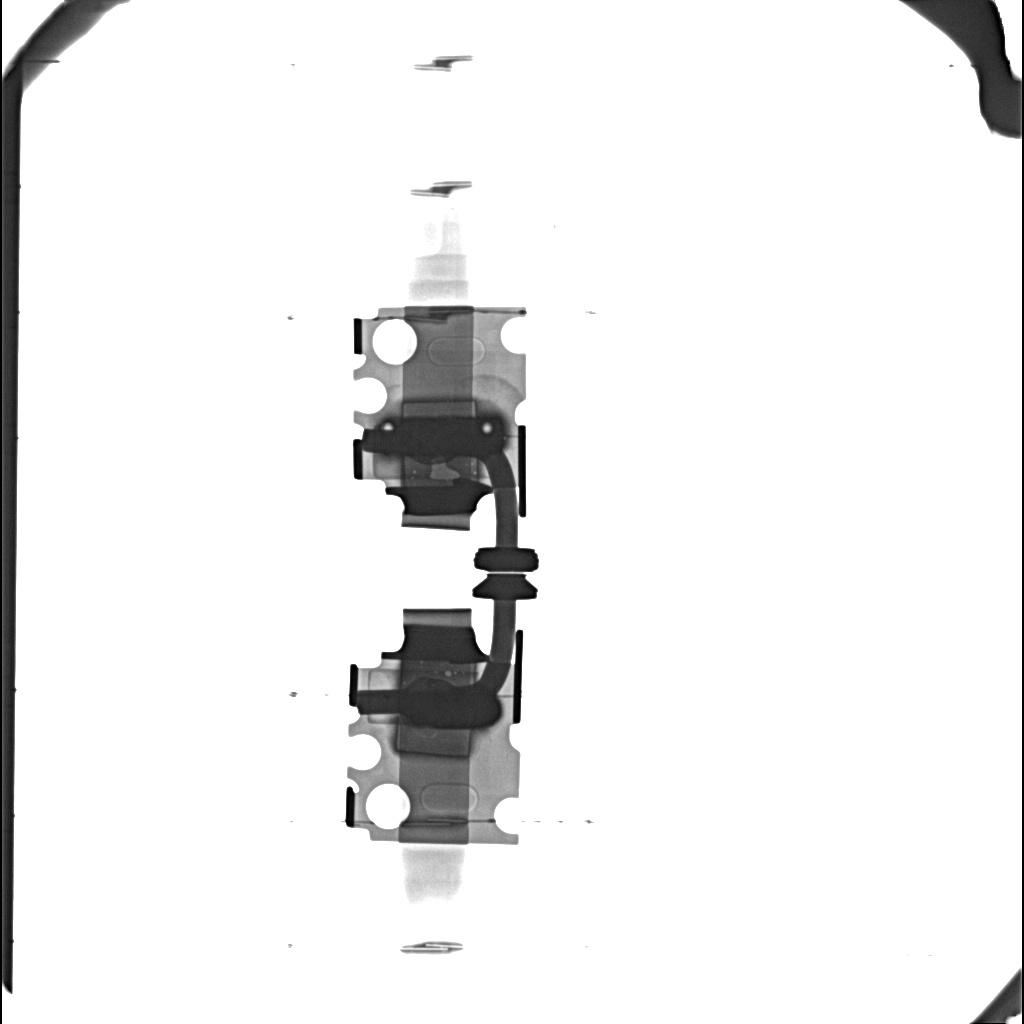PX: (395, 723, 471, 758), (400, 399, 479, 415)
QP: (429, 463, 460, 480), (444, 670, 452, 676)
SX: (378, 417, 503, 458), (401, 683, 500, 730)
